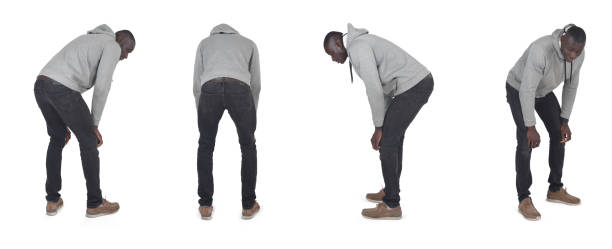Male: (321, 24, 438, 223), (27, 25, 140, 221), (504, 24, 590, 229), (185, 15, 267, 219)
